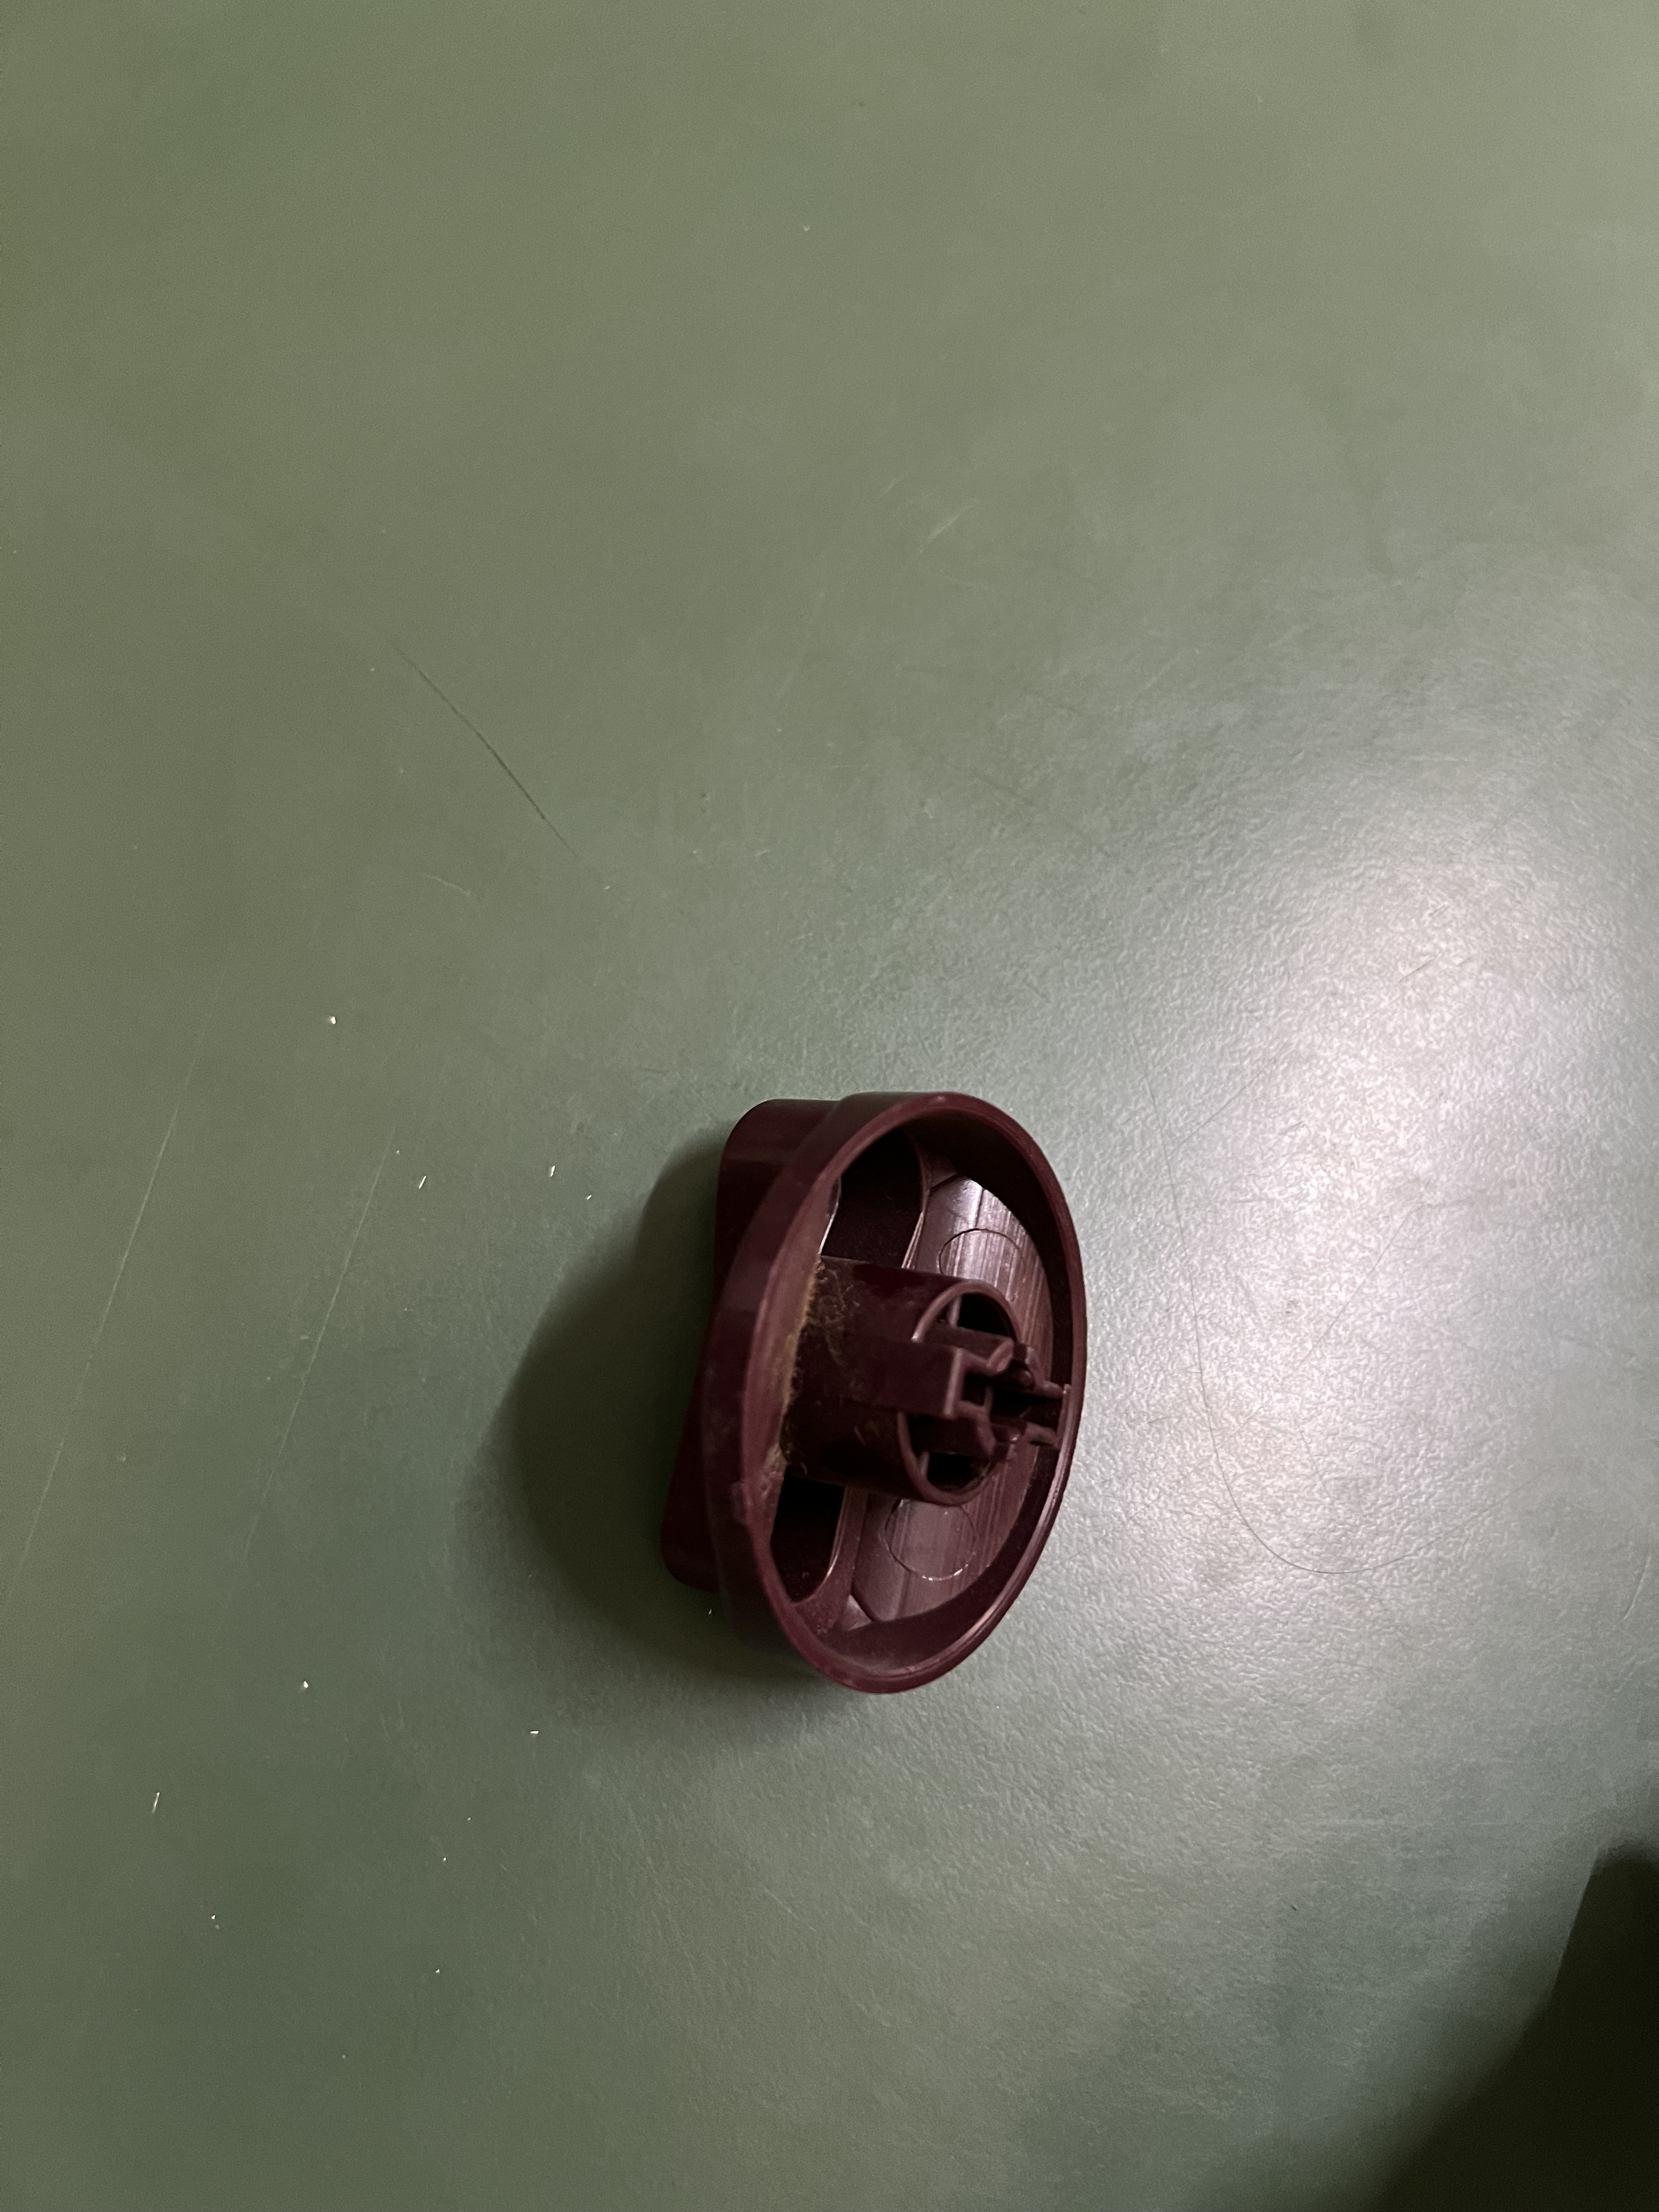regulator: (650, 1094, 1079, 1683)
